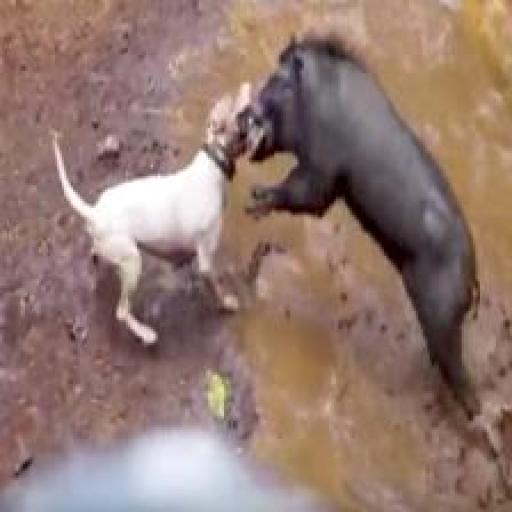Pig: (247, 32, 479, 417)
